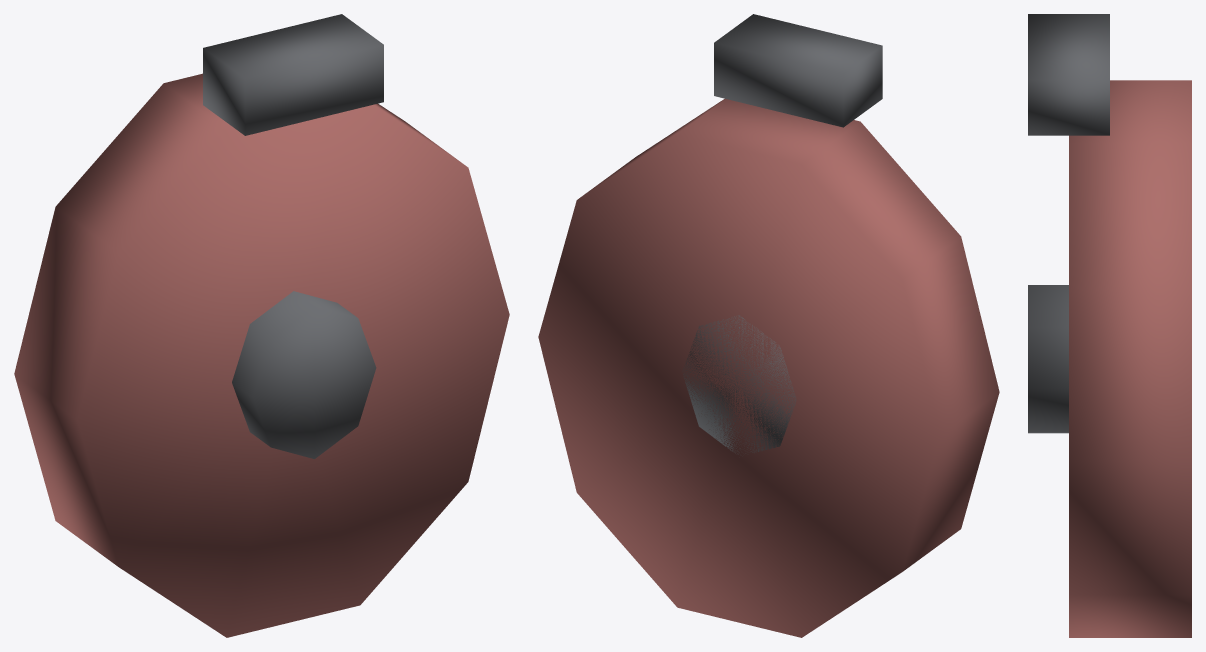
The model's file is hose_reel_09.glb.
3 renders of one model, left to right at view 1: azimuth 30°, elevation 25°; view 2: azimuth 150°, elevation 25°; view 3: azimuth 270°, elevation 25°, orthographic. The views are drawn at different scales.
Visible parts, largest first — view 1: world; view 2: world; view 3: world.
Part boxes in pixels (bbox=[...]): world: bbox=[14, 14, 509, 637]; world: bbox=[538, 14, 999, 637]; world: bbox=[1028, 14, 1191, 637].
Bounding box in the file's own units: 0.4928 × 0.6267 × 0.1664.
